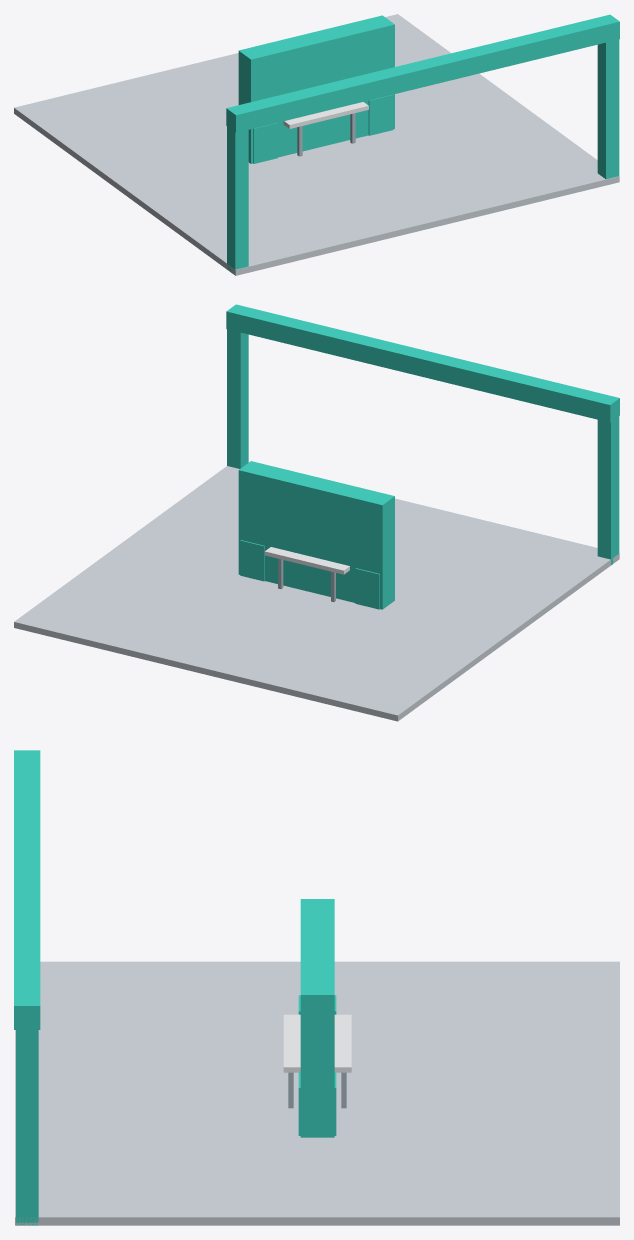
The picture shows the model from 3 angles, top to bottom: view 1: azimuth 30°, elevation 25°; view 2: azimuth 150°, elevation 25°; view 3: azimuth 270°, elevation 25°; orthographic projection. The views are drawn at different scales.
Visible parts, largest first — view 1: Exhibition Booth Concept; view 2: Exhibition Booth Concept; view 3: Exhibition Booth Concept.
Part boxes in pixels (x1,y1,x2,y2): Exhibition Booth Concept: (14, 14, 619, 275); Exhibition Booth Concept: (14, 304, 619, 721); Exhibition Booth Concept: (14, 750, 619, 1225).
Bounding box in the file's own units: 8 × 3.2 × 8.01.
